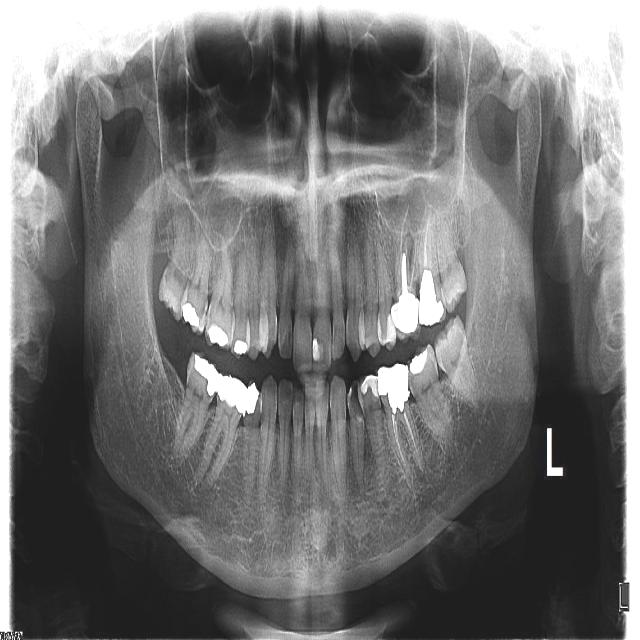Caries: (351, 382, 364, 420), (198, 295, 208, 320), (229, 306, 234, 326), (210, 303, 214, 320)
Crown: (390, 291, 420, 340)
Filling: (377, 364, 410, 414), (419, 270, 443, 326), (217, 373, 248, 414), (194, 353, 220, 396), (243, 384, 259, 417), (208, 324, 228, 347), (410, 349, 427, 374), (182, 303, 198, 328), (361, 374, 378, 397), (386, 313, 396, 349), (312, 338, 323, 360), (235, 340, 247, 354)
Root Canal Treatment: (403, 410, 420, 457), (392, 415, 403, 458), (423, 212, 431, 270), (400, 206, 409, 251), (409, 235, 416, 289)
